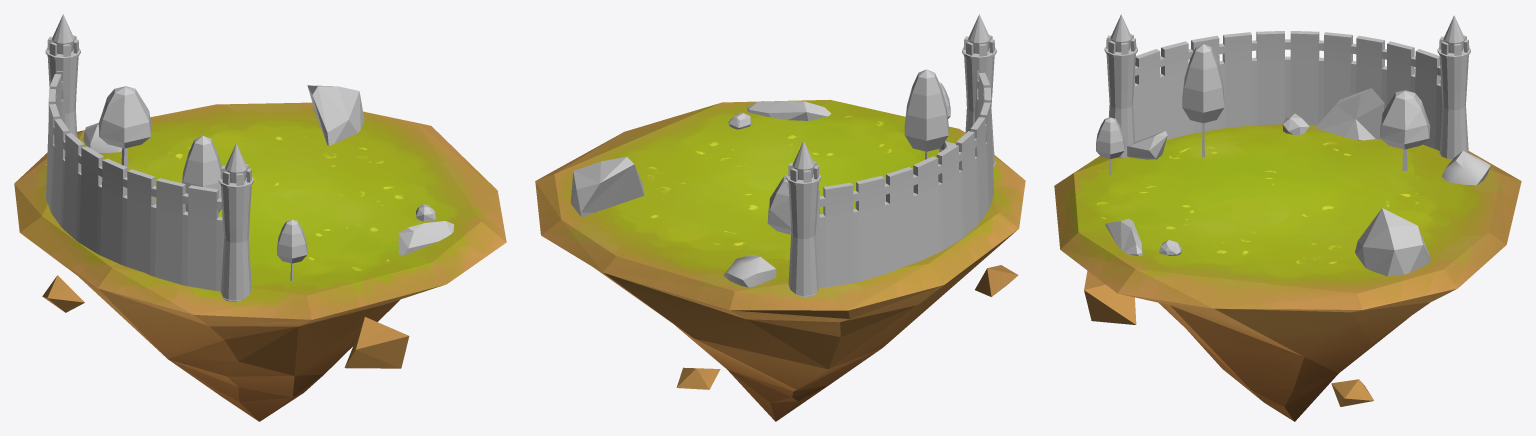
File: batorusinn2.fbx
3 renders of one model, left to right at view 1: azimuth 30°, elevation 25°; view 2: azimuth 150°, elevation 25°; view 3: azimuth 270°, elevation 25°, orthographic. The views are drawn at different scales.
Parts seen in each view (by area): view 1: tikei4, hei, isi4, ki, ki1, ki2; view 2: tikei4, hei, isi4, ki1, ki; view 3: tikei4, hei, isi4, ki1, ki, ki2.
Boxes of the visible parts, <box> form: tikei4: <box>14,102,506,421</box>; hei: <box>45,14,253,301</box>; isi4: <box>83,85,453,255</box>; ki: <box>98,86,151,170</box>; ki1: <box>182,135,221,212</box>; ki2: <box>277,219,307,280</box>; tikei4: <box>535,99,1025,421</box>; hei: <box>786,14,996,297</box>; isi4: <box>571,101,955,287</box>; ki1: <box>904,69,948,159</box>; ki: <box>767,176,820,234</box>; tikei4: <box>1054,124,1521,421</box>; hei: <box>1104,14,1470,159</box>; isi4: <box>1105,88,1490,276</box>; ki1: <box>1182,44,1224,157</box>; ki: <box>1379,90,1430,170</box>; ki2: <box>1096,117,1124,175</box>.
Bounding box in the file's own units: 370 × 303 × 361.
